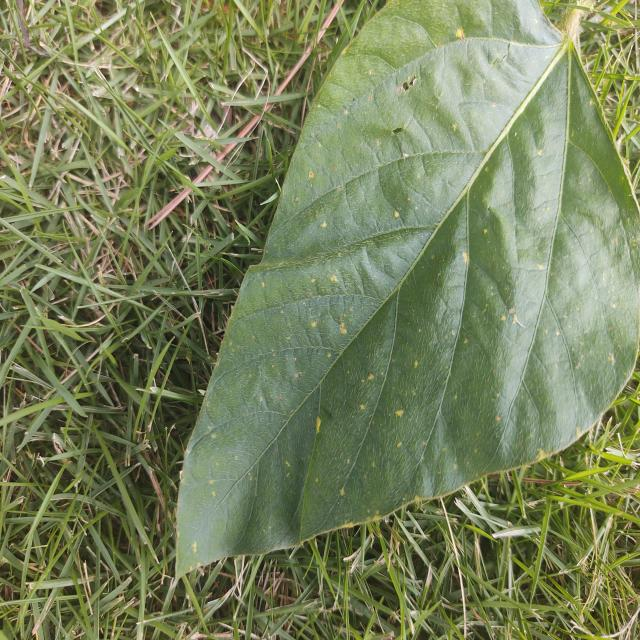Soybean: (174, 0, 640, 579)
downey_mildew: (188, 280, 356, 566), (446, 176, 556, 448), (303, 285, 407, 523), (541, 163, 638, 410), (500, 51, 572, 319), (428, 37, 548, 186), (171, 417, 276, 583), (559, 37, 640, 242), (417, 186, 471, 428), (427, 227, 548, 332), (228, 316, 331, 431), (316, 159, 418, 272), (471, 144, 523, 302), (522, 313, 580, 453), (239, 259, 348, 330), (441, 1, 563, 55), (347, 221, 432, 297), (341, 4, 434, 73), (378, 133, 435, 232), (307, 306, 382, 372), (489, 41, 562, 108), (419, 142, 483, 215), (457, 100, 518, 158), (408, 1, 462, 47)
